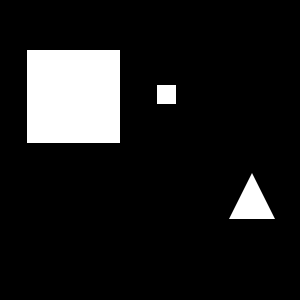circle: (27, 50, 120, 143), (157, 85, 176, 104)
triangle: (229, 173, 275, 219)
